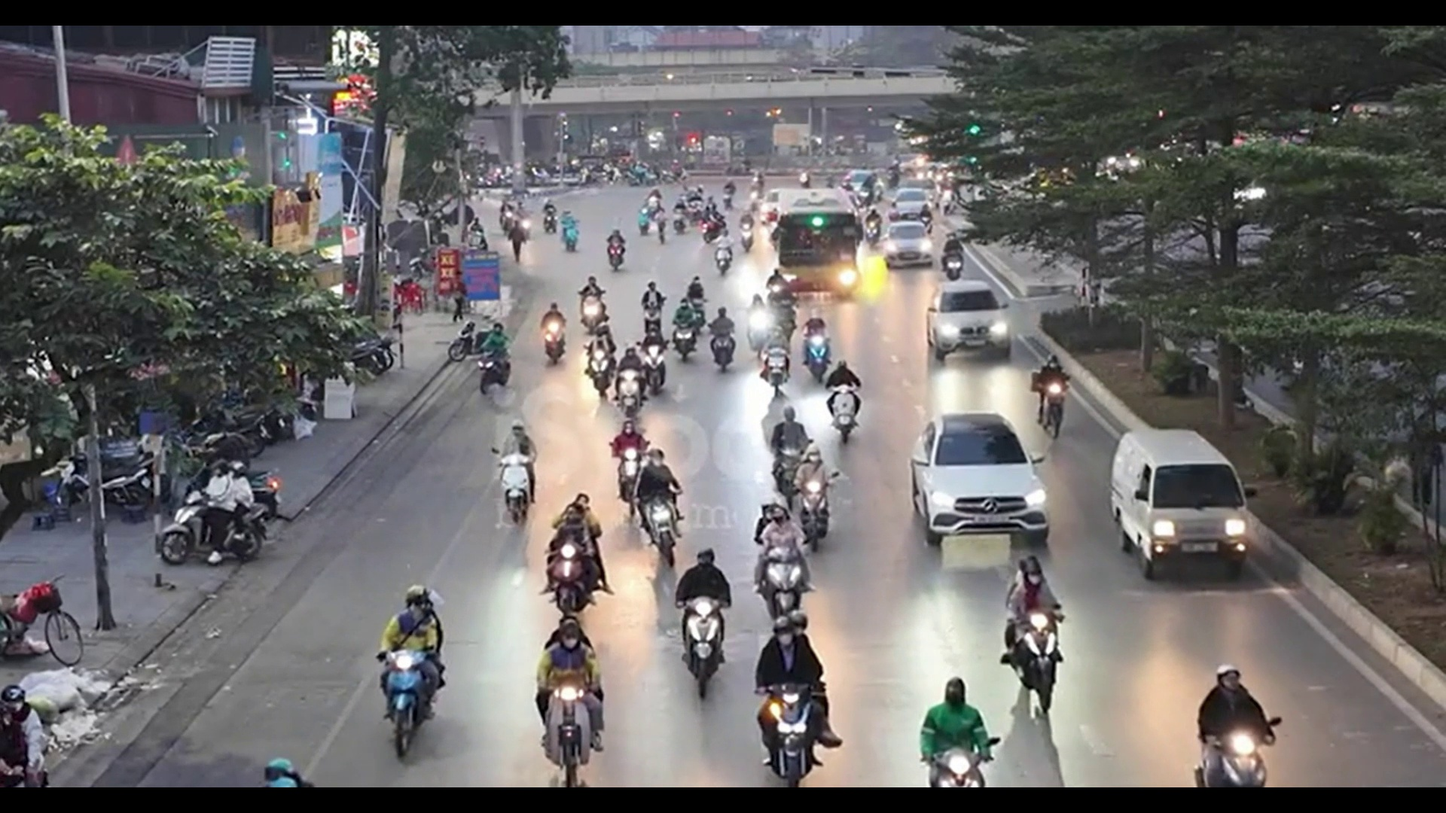car: (1108, 428, 1251, 574), (910, 412, 1047, 544), (774, 207, 861, 295), (928, 278, 1015, 362), (883, 221, 937, 268)
motorcycle: (156, 487, 283, 568), (756, 678, 839, 785), (378, 645, 445, 761), (536, 676, 605, 787), (0, 579, 86, 668), (680, 602, 727, 694), (499, 452, 534, 526)
